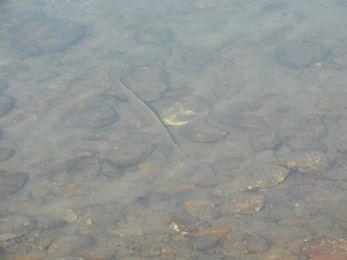Fistularia commersonii: (93, 57, 205, 158)
